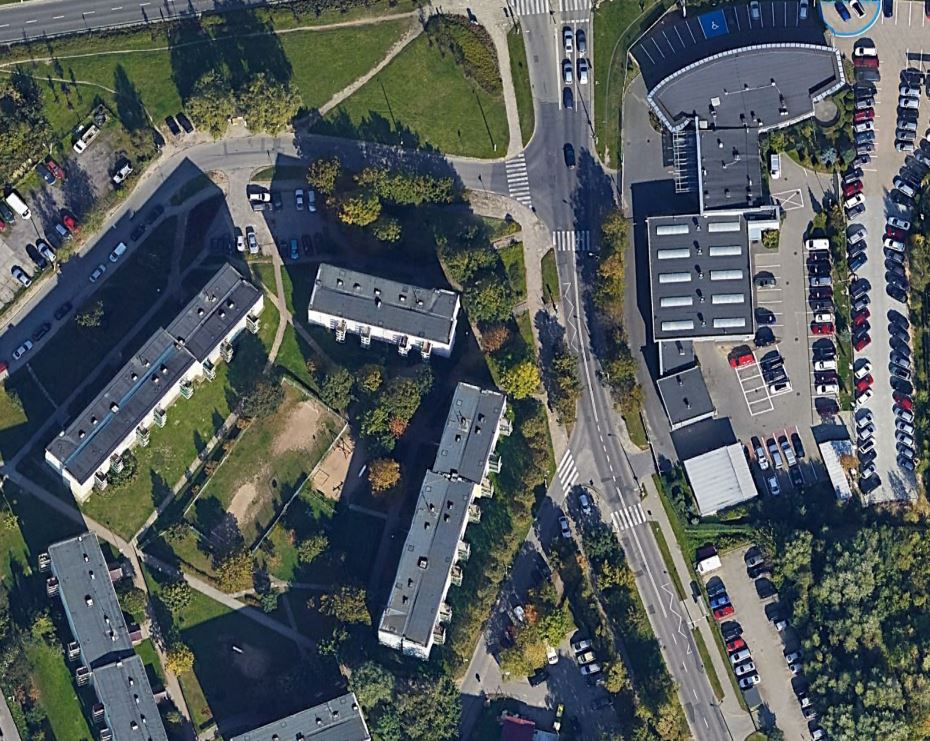block of flats: (39, 258, 269, 506), (368, 378, 513, 667), (37, 524, 175, 741), (300, 258, 467, 363), (218, 684, 372, 741)
shopping_center: (633, 40, 847, 437)
